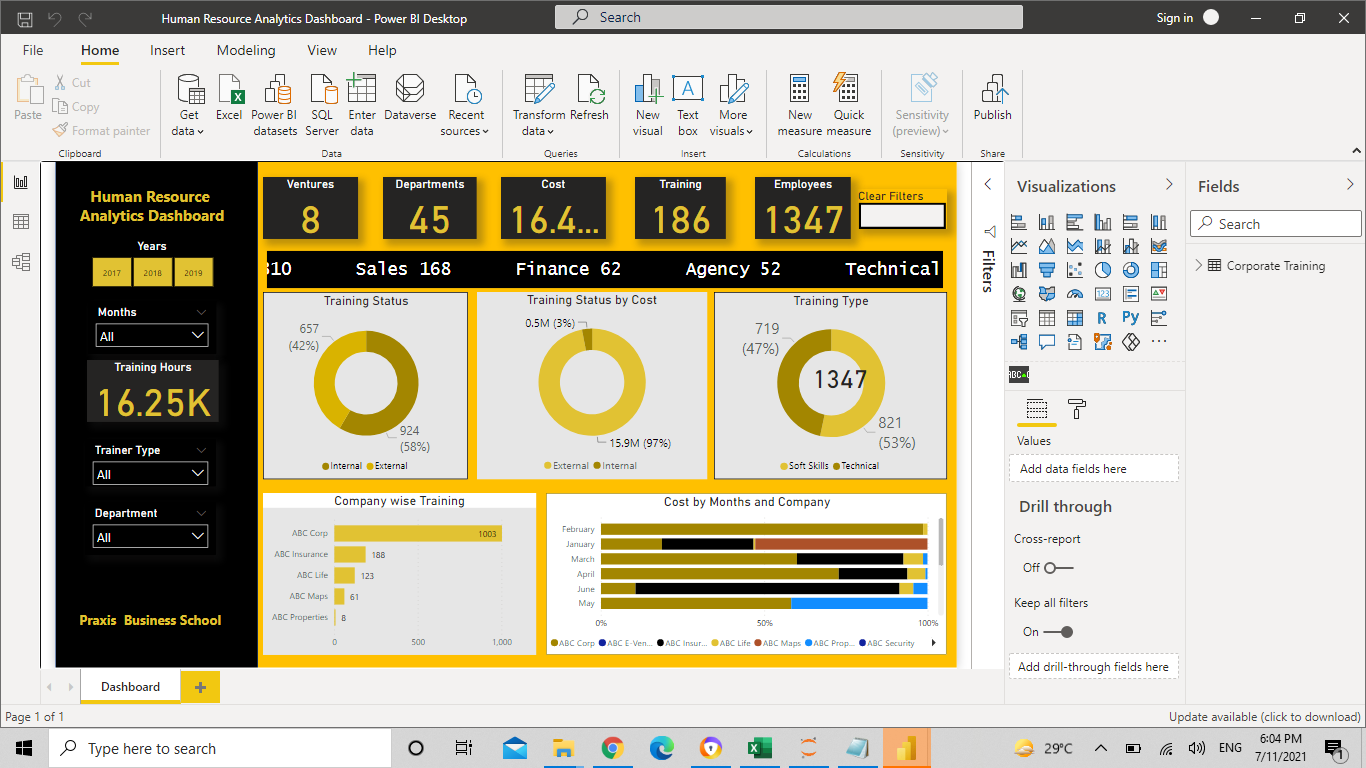

The dashboard page shown, as its layout file describes it:
{"tool":"powerbi","page":{"name":"Dashboard","canvas":[1280,720],"ordinal":0},"visuals":[{"type":"donutChart","title":"Training Type","fields":{"Category":["Corporate Training.Training Type"],"Y":["Count(Corporate Training.Employee No)"]},"box":[935.6,184.8,330.9,265.6],"z":0,"group":"g1"},{"type":"slicer","fields":{"Values":["Corporate Training.Months"]},"box":[46.9,197.4,181.8,75.3],"z":0},{"type":"card","fields":{"Values":["Count(Corporate Training.Employee No)"]},"box":[1027.3,246.5,172.9,118.4],"z":1000,"group":"g1"},{"type":"slicer","title":"Years","fields":{"Values":["Corporate Training.Years"]},"box":[27,109.3,221.5,75.3],"z":1000},{"type":"clusteredBarChart","title":"Company wise Training","fields":{"Category":["Corporate Training.Company"],"Y":["Count(Corporate Training.Employee No)"]},"box":[295.4,470.1,387.7,230.1],"z":2000},{"type":"group","id":"g1","title":"Group 1","box":[935.6,184.8,330.9,265.4],"z":3000},{"type":"donutChart","title":"Training Status","fields":{"Category":["Corporate Training.Trainer Type"],"Y":["Count(Corporate Training.Employee No)"]},"box":[295.4,184.6,291.1,265.6],"z":4000},{"type":"donutChart","title":"Training Status by Cost","fields":{"Y":["Sum(Corporate Training.Training Cost (RS))"],"Category":["Corporate Training.Trainer Type"]},"box":[599.3,184.6,326.6,265.6],"z":5000},{"type":"ScrollingTextVisual1448795304508","title":"Count of Employee No by Company","fields":{"Measure Absolute":["Count(Corporate Training.Employee No)"],"Category":["Corporate Training.Department"]},"box":[295.4,120.7,971.4,63.9],"z":6000},{"type":"hundredPercentStackedBarChart","title":"Cost  by Months and Company","fields":{"Category":["Corporate Training.Months"],"Y":["Sum(Corporate Training.Training Cost (RS))"],"Series":["Corporate Training.Company"]},"box":[697.3,470.1,569.5,230.1],"z":7000},{"type":"textbox","box":[0,28.4,275.5,75.3],"z":8000},{"type":"slicer","fields":{"Values":["Corporate Training.Trainer Type"]},"box":[42.6,393.4,186,66.7],"z":9000},{"type":"slicer","fields":{"Values":["Corporate Training.Department"]},"box":[42.6,482.8,186,75.3],"z":10000},{"type":"card","title":"Departments","fields":{"Values":["Count(Corporate Training.Department)"]},"box":[465.8,21.3,133.5,88],"z":11000},{"type":"card","title":"Ventures","fields":{"Values":["Count(Corporate Training.Company)"]},"box":[295.4,21.3,134.9,88],"z":12000},{"type":"card","title":"Cost","fields":{"Values":["Sum(Corporate Training.Training Cost (RS))"]},"box":[633.4,21.3,149.1,88],"z":13000},{"type":"card","title":"Training","fields":{"Values":["Count(Corporate Training.Training )"]},"box":[823.7,21.3,129.2,88],"z":14000},{"type":"card","title":"Employees","fields":{"Values":["Count(Corporate Training.Employee No)"]},"box":[994.1,21.3,136.3,88],"z":15000},{"type":"basicShape","title":"Clear Filters","box":[1140.4,38.3,126.4,56.8],"z":16000},{"type":"card","title":"Training Hours","fields":{"Values":["Sum(Corporate Training.Training Hours)"]},"box":[45.4,281.2,187.5,88],"z":17000},{"type":"textbox","box":[0,632,275.5,68.2],"z":18000}]}

Visuals, with their boxes on the page's 1280x720 design canvas (x1, y1, x2, y2). These are canvas units, not pixel positions in the 1366x768 screenshot, which may show the page scaled, cropped or inside an application window:
"Training Type" donutChart: [936, 185, 1266, 450]
slicer - Corporate Training.Months: [47, 197, 229, 273]
card - Count(Corporate Training.Employee No): [1027, 246, 1200, 365]
"Years" slicer: [27, 109, 248, 185]
"Company wise Training" clusteredBarChart: [295, 470, 683, 700]
"Group 1" group: [936, 185, 1266, 450]
"Training Status" donutChart: [295, 185, 586, 450]
"Training Status by Cost" donutChart: [599, 185, 926, 450]
"Count of Employee No by Company" ScrollingTextVisual1448795304508: [295, 121, 1267, 185]
"Cost  by Months and Company" hundredPercentStackedBarChart: [697, 470, 1267, 700]
textbox: [0, 28, 276, 104]
slicer - Corporate Training.Trainer Type: [43, 393, 229, 460]
slicer - Corporate Training.Department: [43, 483, 229, 558]
"Departments" card: [466, 21, 599, 109]
"Ventures" card: [295, 21, 430, 109]
"Cost" card: [633, 21, 782, 109]
"Training" card: [824, 21, 953, 109]
"Employees" card: [994, 21, 1130, 109]
"Clear Filters" basicShape: [1140, 38, 1267, 95]
"Training Hours" card: [45, 281, 233, 369]
textbox: [0, 632, 276, 700]
